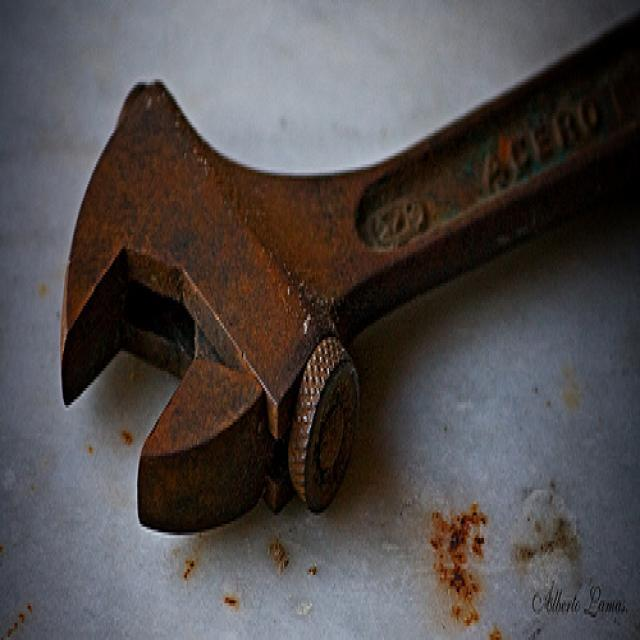wrench: (51, 24, 638, 560)
